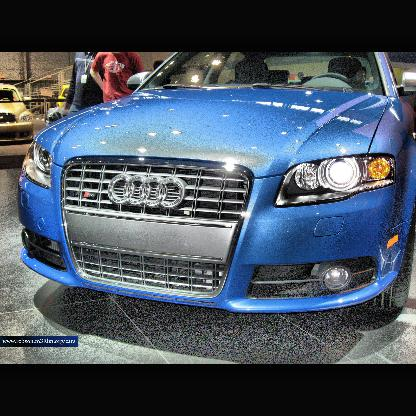Audi S4 Sedan 2007: (19, 54, 416, 339)
